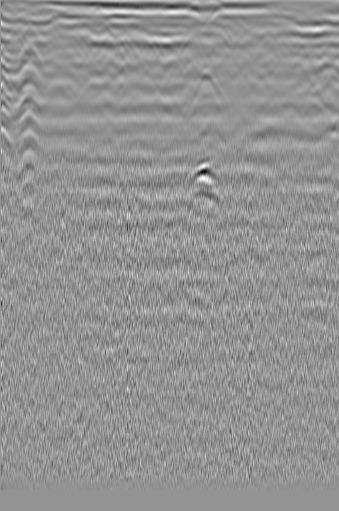가스: (180, 158, 222, 192)
상수: (288, 46, 310, 68)
오수: (12, 42, 43, 78)
우수: (139, 32, 165, 63)
